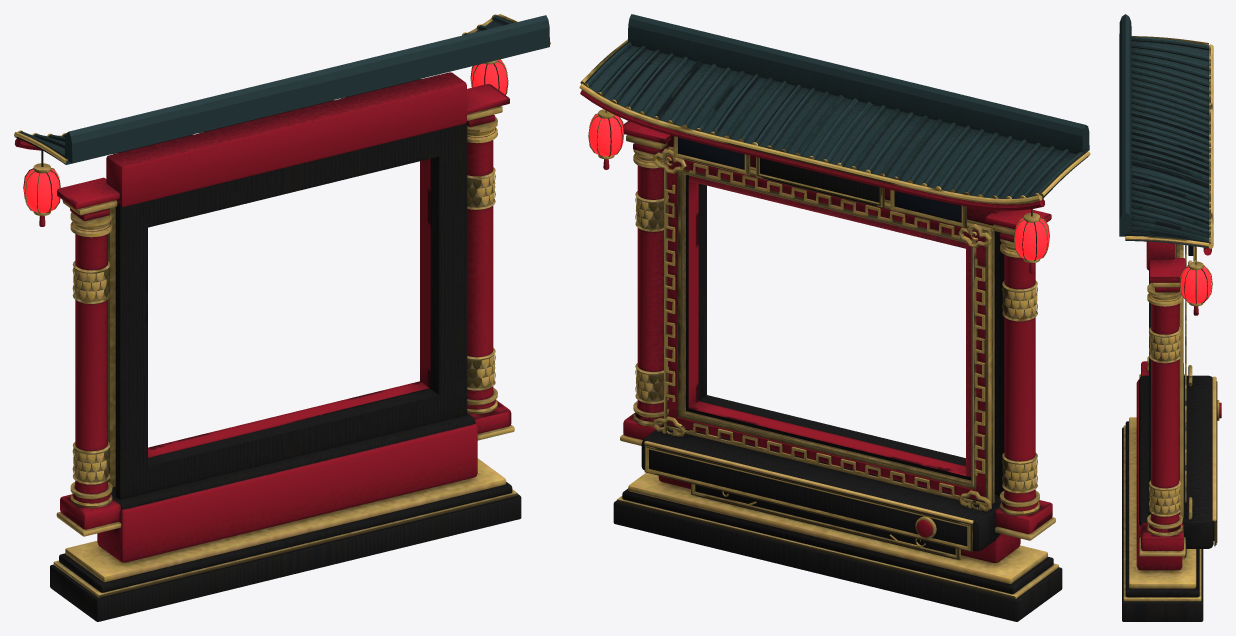
3 views of the same model, side by side, from view 1: azimuth 30°, elevation 25°; view 2: azimuth 150°, elevation 25°; view 3: azimuth 270°, elevation 25° (orthographic). The views are drawn at different scales.
Parts seen in each view (by area): view 1: Deep_vermilion_lacquer, Quiet_ebony_grain, Imperial_satin_gold, Glazed_charcoal_teal_ceramic, glow_red_lantern_silk; view 2: Imperial_satin_gold, Glazed_charcoal_teal_ceramic, Quiet_ebony_grain, Deep_vermilion_lacquer, glow_red_lantern_silk, Blank_blue_black_enamel; view 3: Glazed_charcoal_teal_ceramic, Imperial_satin_gold, Quiet_ebony_grain, Deep_vermilion_lacquer, glow_red_lantern_silk.
Part boxes in pixels (<box>): Deep_vermilion_lacquer: <box>15,72,511,562</box>; Quiet_ebony_grain: <box>50,100,521,621</box>; Imperial_satin_gold: <box>14,14,550,597</box>; Glazed_charcoal_teal_ceramic: <box>16,15,549,164</box>; glow_red_lantern_silk: <box>24,59,507,212</box>; Imperial_satin_gold: <box>579,39,1090,598</box>; Glazed_charcoal_teal_ceramic: <box>585,14,1089,198</box>; Quiet_ebony_grain: <box>613,158,1062,621</box>; Deep_vermilion_lacquer: <box>580,90,1052,562</box>; glow_red_lantern_silk: <box>589,114,1049,260</box>; Blank_blue_black_enamel: <box>678,137,961,222</box>; Glazed_charcoal_teal_ceramic: <box>1119,14,1209,248</box>; Imperial_satin_gold: <box>1123,36,1219,601</box>; Quiet_ebony_grain: <box>1122,269,1214,621</box>; Deep_vermilion_lacquer: <box>1136,241,1221,570</box>; glow_red_lantern_silk: <box>1180,266,1211,303</box>.
Size of the model in its own units: 11.5 by 11.2 by 2.46.
Materials: 6 (5 with a texture image).
